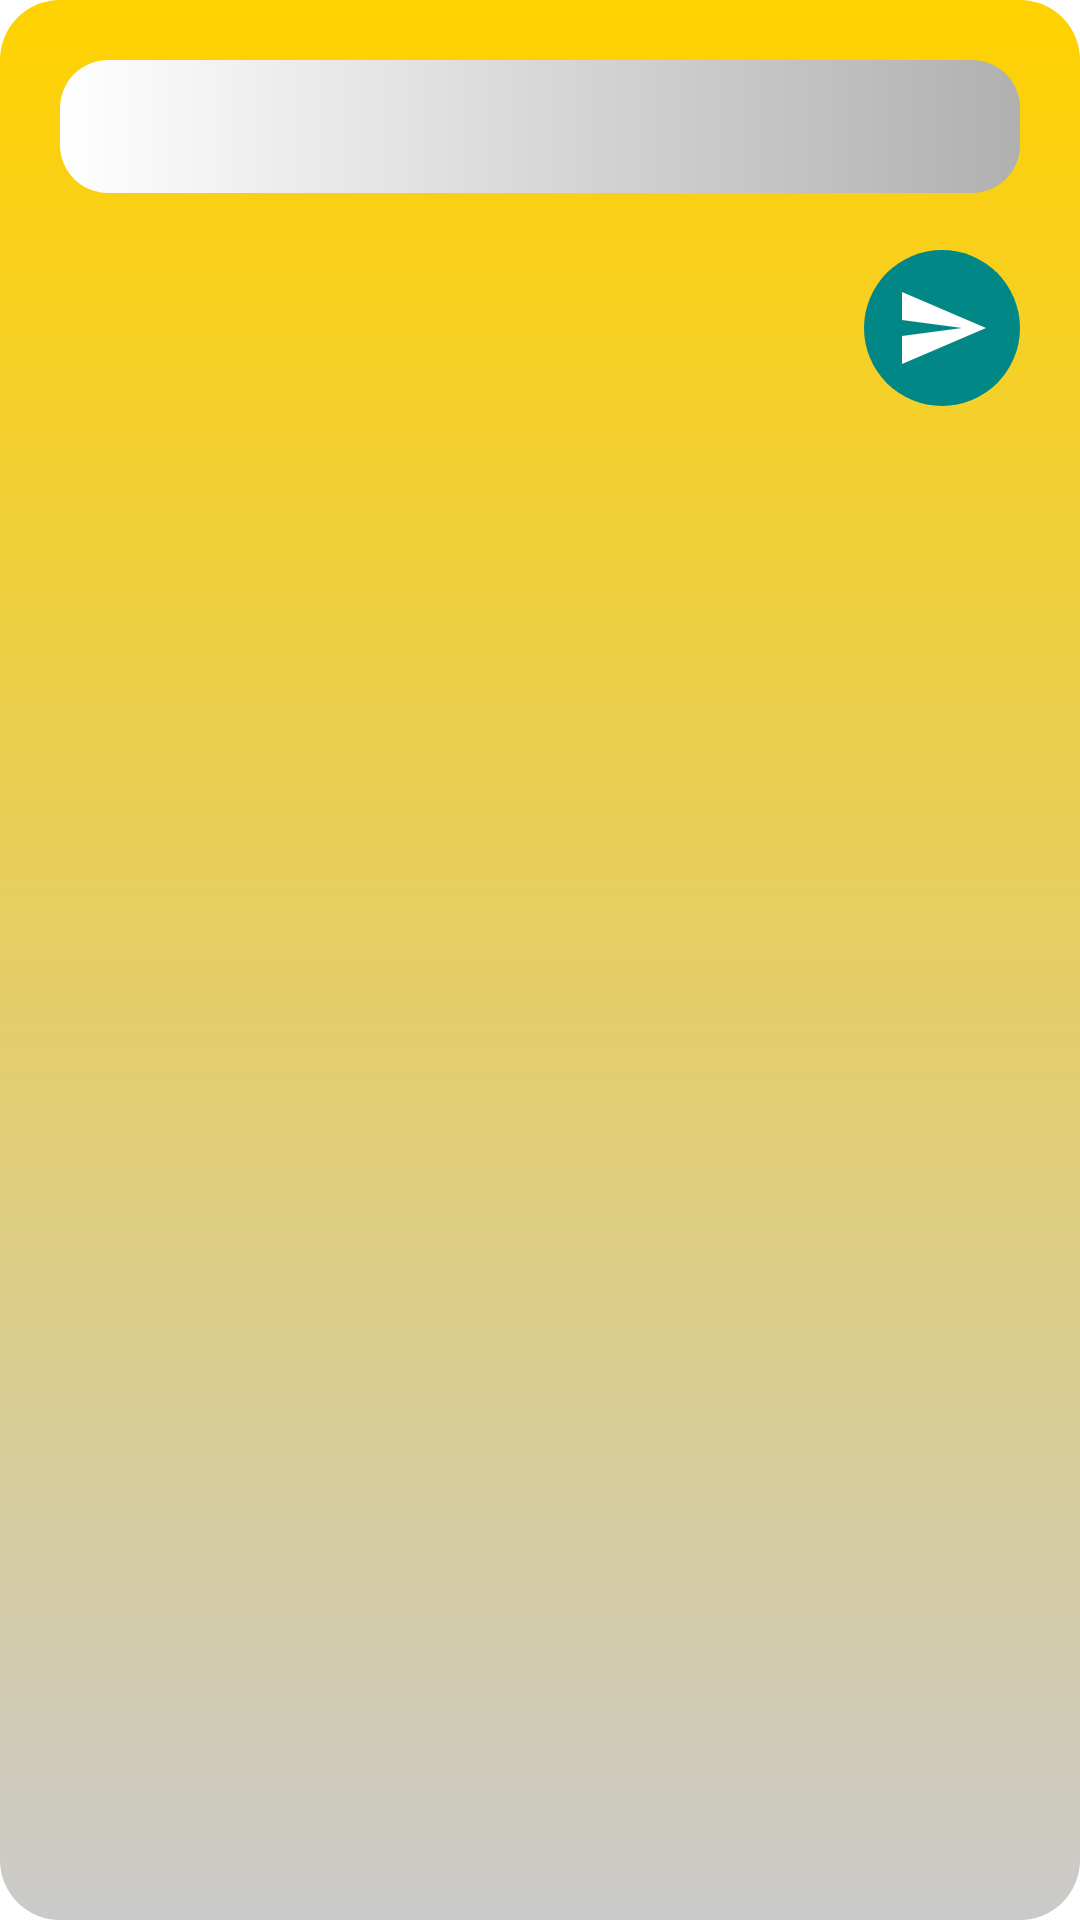

Named icons in this screenshot (1080px×1920px) and their centers, (x=x, y=y):
send: (x=942, y=328)
